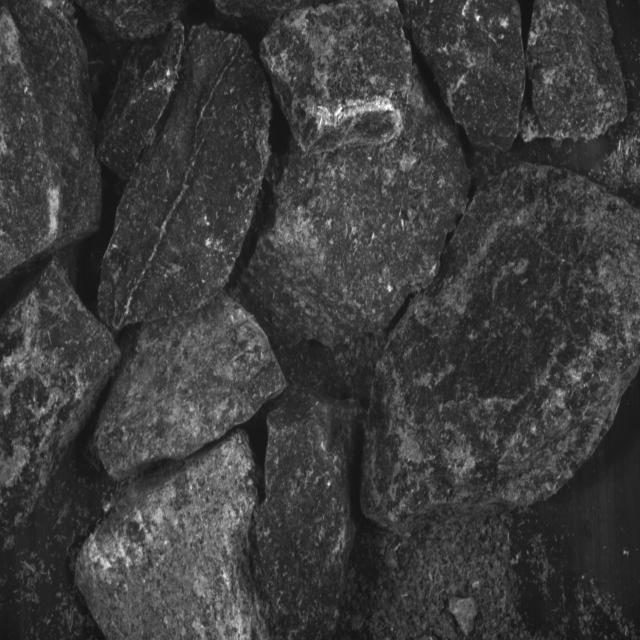Stones: (362, 166, 640, 528), (239, 3, 471, 347), (100, 26, 272, 332), (77, 431, 269, 640), (96, 294, 287, 480), (1, 262, 121, 533), (1, 1, 102, 279), (254, 389, 360, 640), (406, 1, 526, 153), (522, 1, 629, 142), (97, 22, 185, 181), (79, 1, 186, 42), (602, 113, 640, 205)
